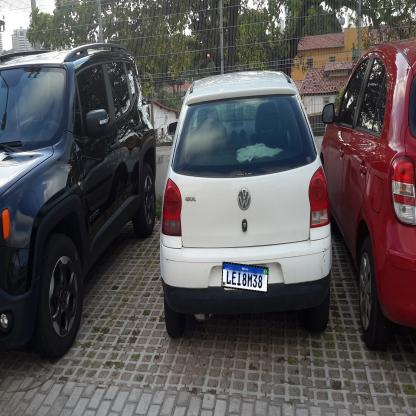PlacaM: (222, 262, 268, 293)
